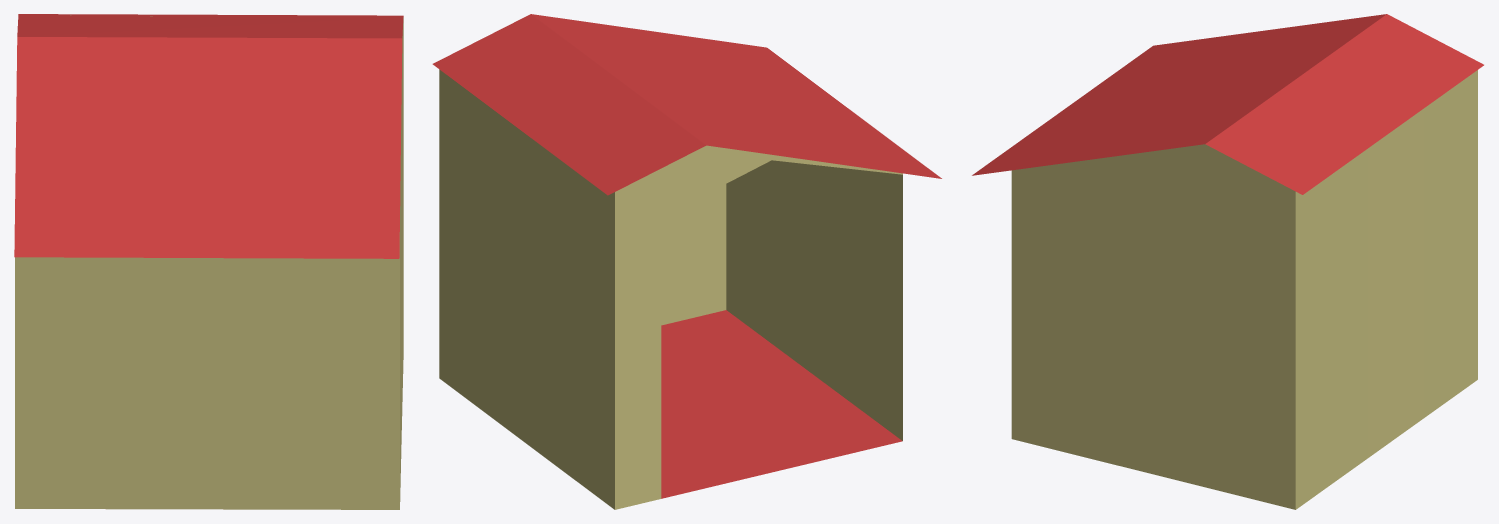
3 views of the same model, side by side, from view 1: azimuth 30°, elevation 25°; view 2: azimuth 150°, elevation 25°; view 3: azimuth 270°, elevation 25° (orthographic). The views are drawn at different scales.
Parts seen in each view (by area): view 1: group_5, group_3, group_4; view 2: group_5, group_3, group_6, group_4; view 3: group_5, group_3, group_4.
Boxes of the visible parts, left/top/right/bottom form: group_5: left=15, top=15, right=403, bottom=509; group_3: left=14, top=14, right=403, bottom=258; group_4: left=14, top=14, right=399, bottom=258; group_5: left=439, top=69, right=902, bottom=509; group_3: left=432, top=14, right=941, bottom=194; group_6: left=661, top=310, right=902, bottom=498; group_4: left=531, top=43, right=939, bottom=195; group_5: left=1011, top=70, right=1477, bottom=509; group_3: left=972, top=14, right=1482, bottom=194; group_4: left=975, top=40, right=1483, bottom=173.
Bounding box in the file's own units: 13.36 × 13.61 × 10.04.
